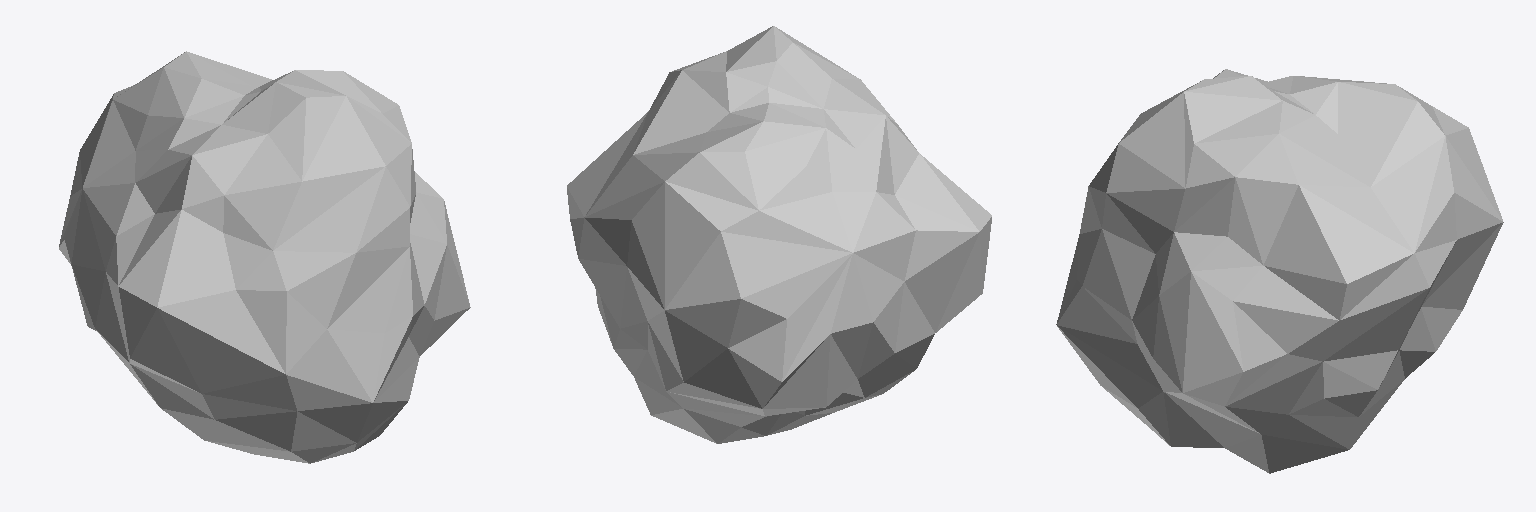
The model's file is asteroid_medium.obj.
The picture shows the model from 3 angles: view 1: azimuth 30°, elevation 25°; view 2: azimuth 150°, elevation 25°; view 3: azimuth 270°, elevation 25°; orthographic projection.
Parts seen in each view (by area): view 1: Sphere; view 2: Sphere; view 3: Sphere.
Part boxes in pixels (x1,y1,x2,y2): Sphere: (59, 51, 470, 463); Sphere: (567, 26, 991, 443); Sphere: (1056, 69, 1503, 473).
Size of the model in its own units: 1.99 by 2.02 by 2.21.